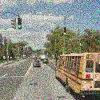buses: (54, 52, 100, 97)
